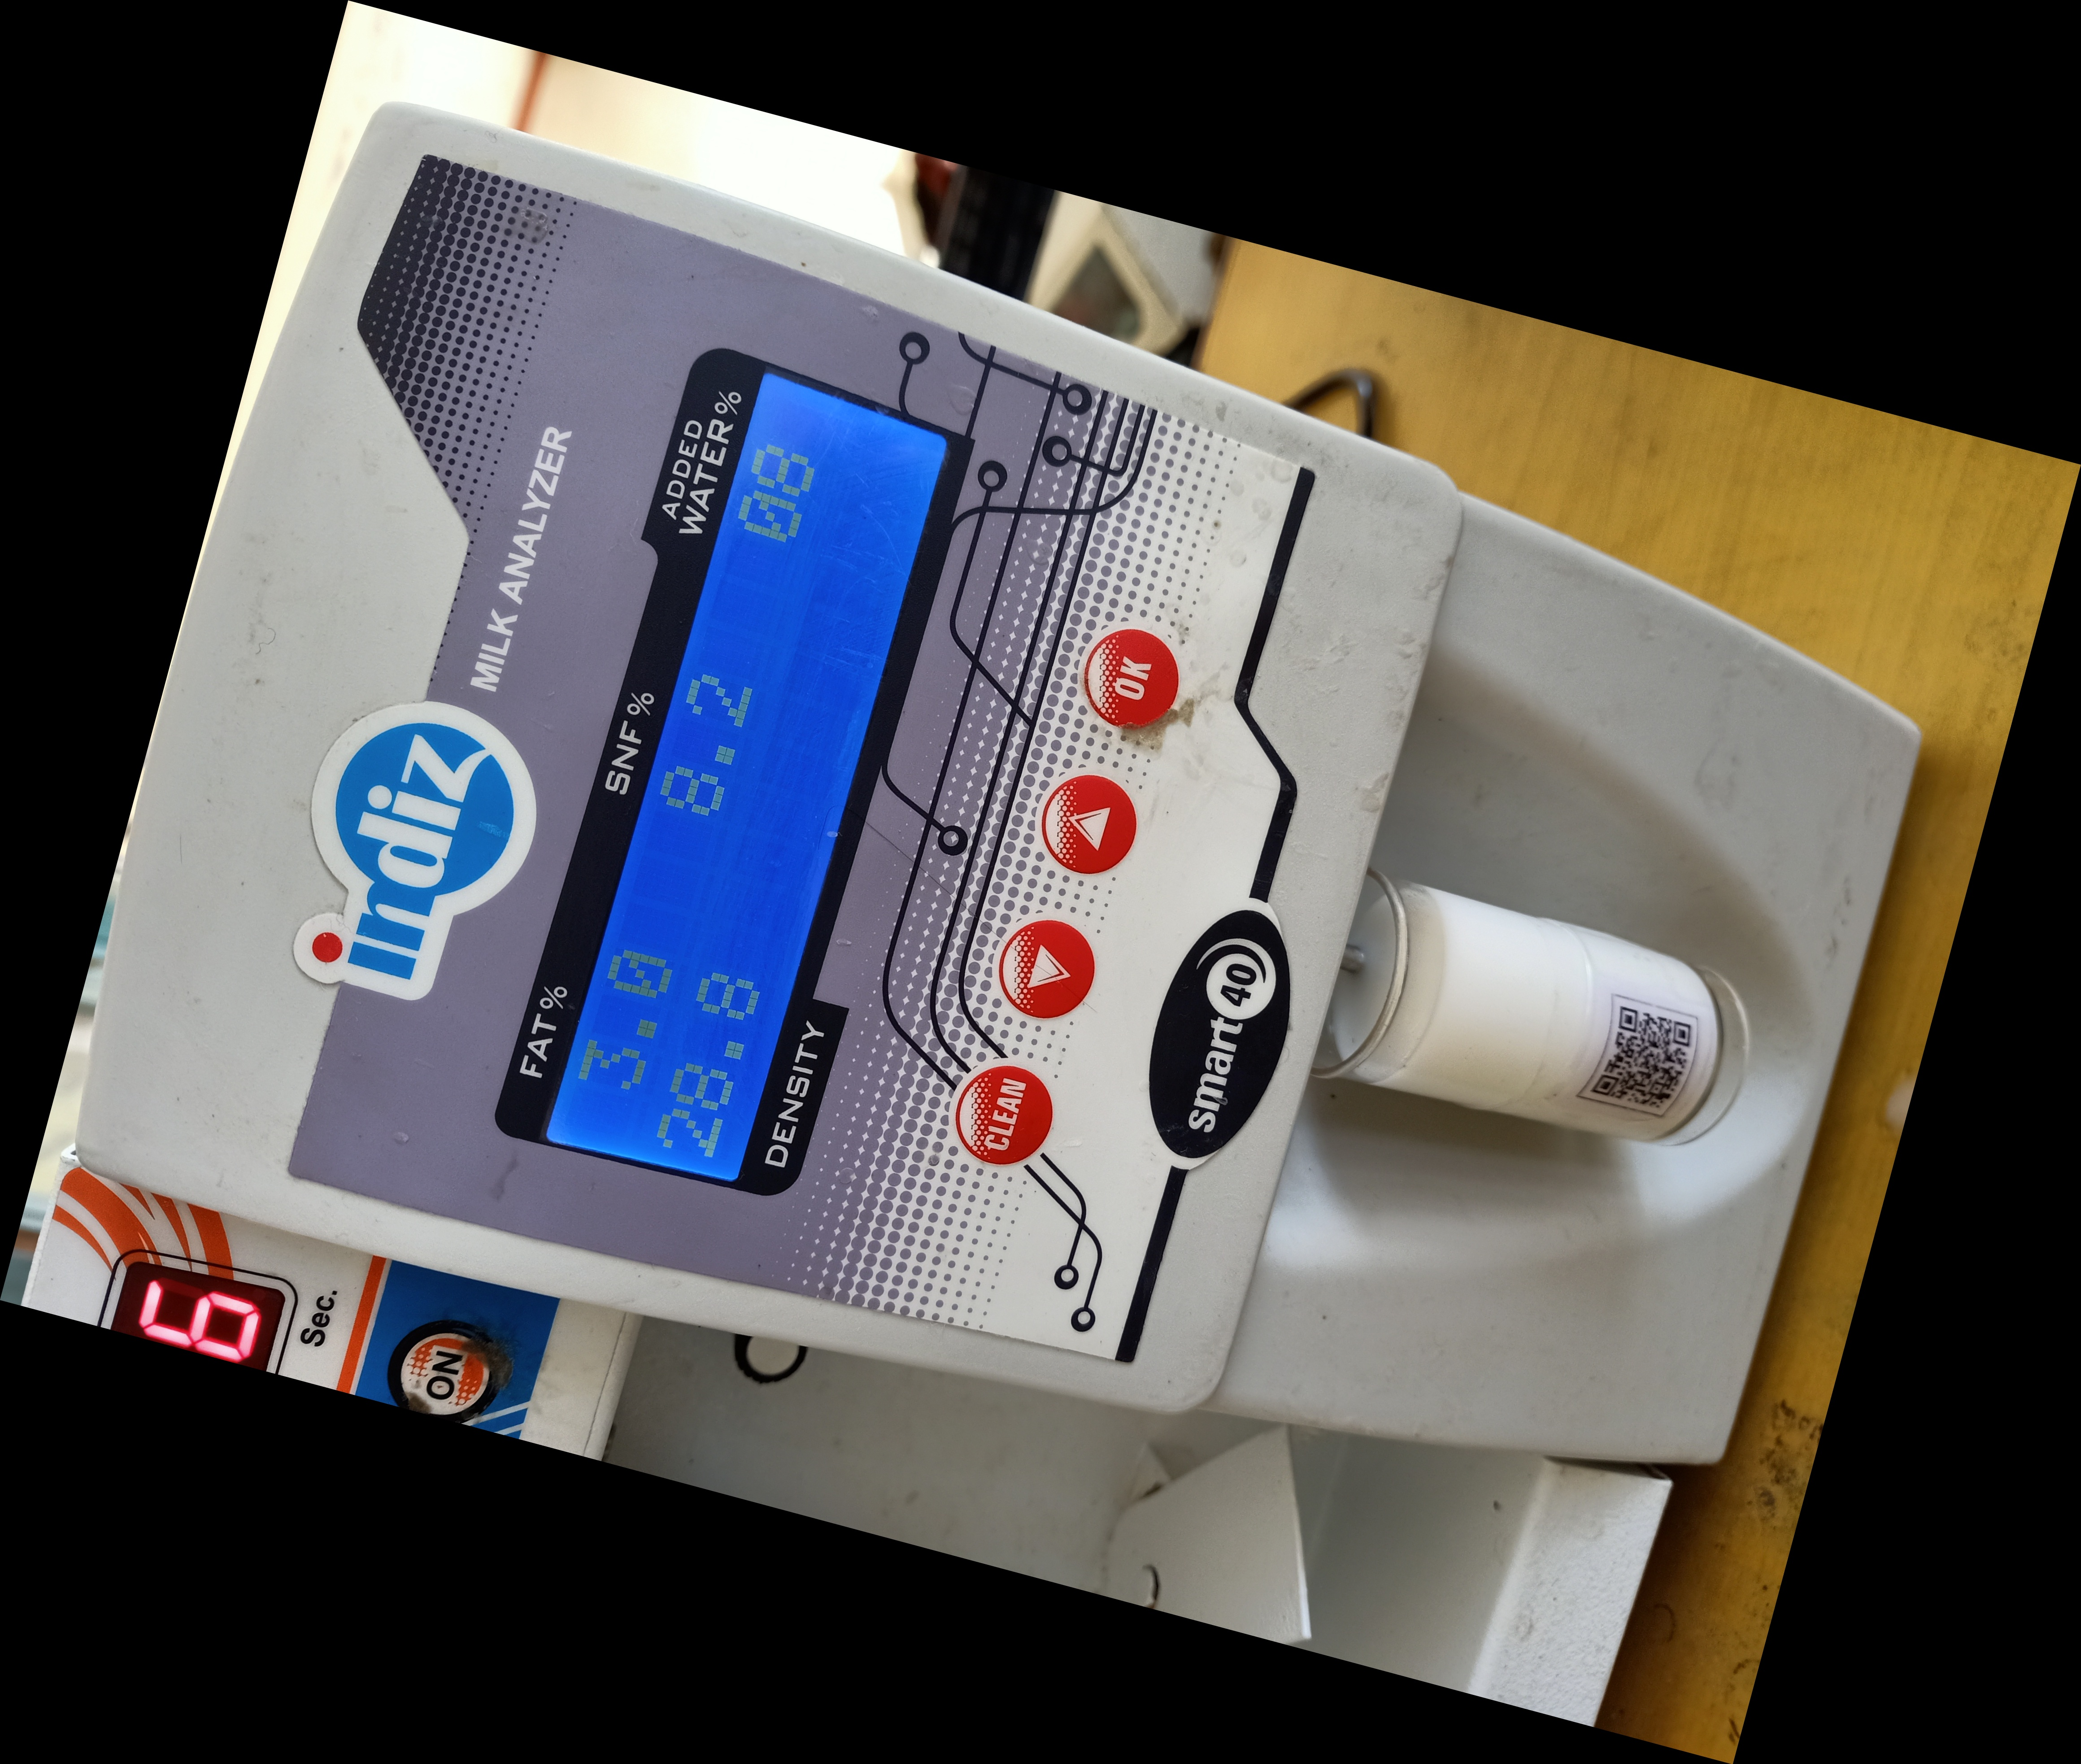lcd: (499, 343, 984, 1213)
qr: (1566, 980, 1710, 1143)
